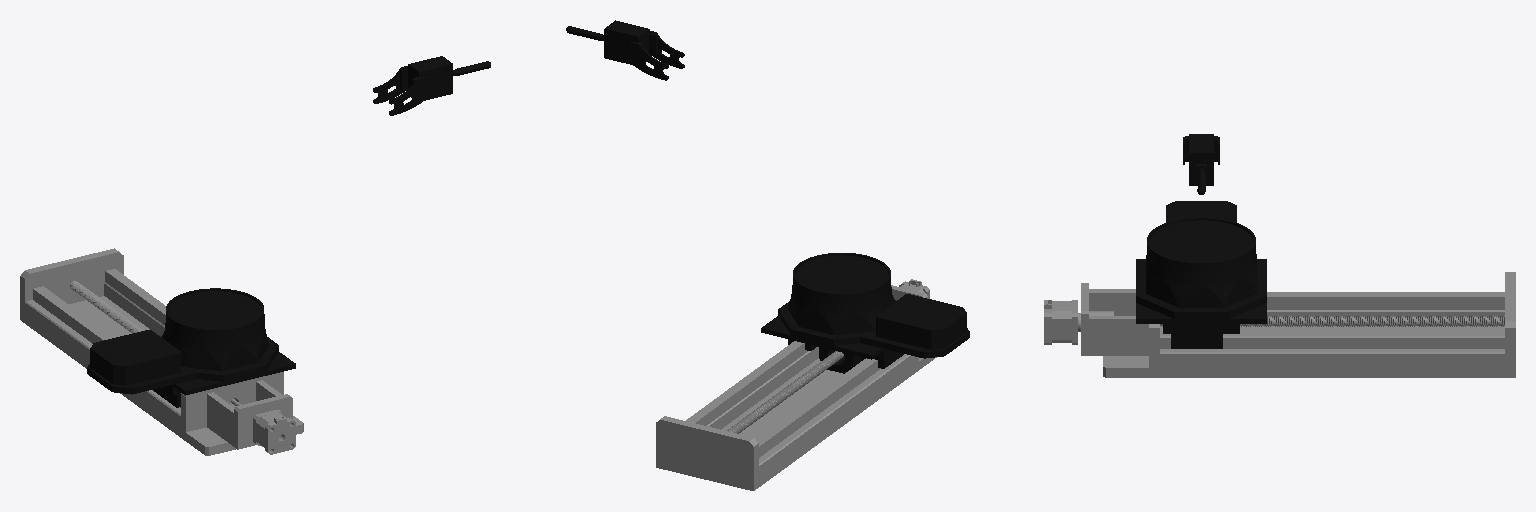
The robot description file, URDF, robot "rx200":
<?xml version="1.0"?>
<robot name="rx200">

  <material name="interbotix_black">
	<color rgba="0.1 0.1 0.1 1"/>
  </material>
  
  <material name="silver">
	<color rgba="0.6 0.6 0.6 1"/>
  </material>
  
  <link name="world" />  

  <joint name="world_joint" type="fixed">
    <origin rpy="0 0 0" xyz="0 0 0"/>
    <parent link="world"/>
    <child link="rx200/linear_actuator"/>
  </joint>  
  
  <link name="rx200/linear_actuator">
	<visual>
      <origin rpy="0 0 0" xyz="0 0 0"/>
      <geometry>
        <mesh filename="../Data/sim/meshes/LINEAR_ACTUATOR.stl" scale="0.001 0.001 0.001"/>
      </geometry>
      <material name="silver"/>
	</visual>
	<collision>
	  <origin rpy="0 0 0" xyz="0 0 0"/>
	  <geometry>
		<mesh filename="../Data/sim/meshes/LINEAR_ACTUATOR.stl" scale="0.001 0.001 0.001"/>
	  </geometry>
	</collision>
	<inertial>
      <origin xyz="0 0 0"/>
      <mass value="1"/>
      <inertia ixx="0.0033530000" iyy="0.0013570000" izz="0.0041110000" ixy="-0.0001246000" ixz="0.0000110600" iyz="0.0002103000" />
	</inertial>
  </link>
  
  <joint name="rail_base" type="prismatic">
    <axis xyz="0 1 0"/>
    <limit effort="8" lower="0" upper="0.325" velocity="0.05"/>
    <origin rpy="0 0 0" xyz="0 -0.125 0.1425"/>
    <parent link="rx200/linear_actuator"/>
    <child link="rx200/base_link"/>
    <dynamics friction="0.1"/>
  </joint>

  <link name="rx200/base_link">
    <visual>
      <origin rpy="0 0 0" xyz="0 0 0"/>
      <geometry>
        <mesh filename="../Data/sim/meshes/RX200_BASE.stl" scale="0.001 0.001 0.001"/>
      </geometry>
      <material name="interbotix_black"/>
    </visual>
    <collision>
      <origin rpy="0 0 0" xyz="0 0 0"/>
      <geometry>
        <mesh filename="../Data/sim/meshes/RX200_BASE.stl" scale="0.001 0.001 0.001"/>
      </geometry>
    </collision>
    <inertial>
      <origin rpy="0 0 0" xyz="-0.0354389000 -0.0033586100 0.0253408000"/>
      <mass value="0.766135" />
      <inertia ixx="0.0033530000" iyy="0.0013570000" izz="0.0041110000" ixy="-0.0001246000" ixz="0.0000110600" iyz="0.0002103000" />
    </inertial>
  </link>

  <joint name="waist" type="revolute">
    <axis xyz="0 0 1"/>
    <limit effort="8" lower="-1.57078632679" upper="1.57080632679" velocity="3.14159"/>
    <origin rpy="0 0 0" xyz="0.00625 0 0"/>
    <parent link="rx200/base_link"/>
    <child link="rx200/shoulder_link"/>
    <dynamics friction="0.1"/>
  </joint>

  <transmission name="trans_waist">
    <type>transmission_interface/SimpleTransmission</type>
    <joint name="waist">
      <hardwareInterface>hardware_interface/EffortJointInterface</hardwareInterface>
    </joint>
    <actuator name="waist_motor">
      <mechanicalReduction>1</mechanicalReduction>
    </actuator>
  </transmission>

  <link name="rx200/shoulder_link">
    <visual>
      <origin rpy="0 0 -1.57079632679" xyz="0 0 0.0015"/>
      <geometry>
        <mesh filename="../Data/sim/meshes/RX200_SHOULDER.stl" scale="0.001 0.001 0.001"/>
      </geometry>
      <material name="interbotix_black"/>
    </visual>
    <collision>
      <origin rpy="0 0 -1.57079632679" xyz="0 0 0.0015"/>
      <geometry>
        <mesh filename="../Data/sim/meshes/RX200_SHOULDER.stl" scale="0.001 0.001 0.001"/>
      </geometry>
    </collision>
    <inertial>
      <origin rpy="0 0 1.57079632679" xyz="-0.0000853644 0.0000173690 0.0132005000"/>
      <mass value="0.257774" />
      <inertia ixx="0.0002663000" iyy="0.0004428000" izz="0.0004711000" ixy="0.0000000009" ixz="0.0000000511" iyz="0.0000004416" />
    </inertial>
  </link>

  <joint name="shoulder" type="revolute">
    <axis xyz="0 1 0"/>
    <limit effort="18" lower="-1.88496" upper="1.97222" velocity="1"/>
    <origin rpy="0 0 0" xyz="0 0 0.03891"/>
    <parent link="rx200/shoulder_link"/>
    <child link="rx200/upper_arm_link"/>
    <dynamics friction="0.1"/>
  </joint>

  <transmission name="trans_shoulder">
    <type>transmission_interface/SimpleTransmission</type>
    <joint name="shoulder">
      <hardwareInterface>hardware_interface/EffortJointInterface</hardwareInterface>
    </joint>
    <actuator name="shoulder_motor">
      <mechanicalReduction>1</mechanicalReduction>
    </actuator>
  </transmission>

  <link name="rx200/upper_arm_link">
    <visual>
      <origin rpy="0 0 1.57079632679" xyz="0 0 0"/>
      <geometry>
        <mesh filename="../Data/sim/meshes/RX200_UA.stl" scale="0.001 0.001 0.001"/>
      </geometry>
      <material name="interbotix_black"/>
    </visual>
    <collision>
      <origin rpy="0 0 1.57079632679" xyz="0 0 0"/>
      <geometry>
        <mesh filename="../Data/sim/meshes/RX200_UA.stl" scale="0.001 0.001 0.001"/>
      </geometry>
    </collision>
    <inertial>
      <origin rpy="0 0 1.57079632679" xyz="0.0119513000 -0.0001169230 0.1394300000"/>
      <mass value="0.297782" />
      <inertia ixx="0.0017100000" iyy="0.0016310000" izz="0.0001478000" ixy="-0.0000009773" ixz="0.0000020936" iyz="0.0002132000" />
    </inertial>
  </link>

  <joint name="elbow" type="revolute">
    <axis xyz="0 1 0"/>
    <limit effort="13" lower="-1.88496" upper="1.62316" velocity="3.14159"/>
    <origin rpy="0 0 0" xyz="0.05 0 0.2"/>
    <parent link="rx200/upper_arm_link"/>
    <child link="rx200/forearm_link"/>
    <dynamics friction="0.1"/>
  </joint>

  <transmission name="trans_elbow">
    <type>transmission_interface/SimpleTransmission</type>
    <joint name="elbow">
      <hardwareInterface>hardware_interface/EffortJointInterface</hardwareInterface>
    </joint>
    <actuator name="elbow_motor">
      <mechanicalReduction>1</mechanicalReduction>
    </actuator>
  </transmission>

  <link name="rx200/forearm_link">
    <visual>
      <origin rpy="0 0 1.57079632679" xyz="0 0 0"/>
      <geometry>
        <mesh filename="../Data/sim/meshes/RX200_FOREARM.stl" scale="0.001 0.001 0.001"/>
      </geometry>
      <material name="interbotix_black"/>
    </visual>
    <collision>
      <origin rpy="0 0 1.57079632679" xyz="0 0 0"/>
      <geometry>
        <mesh filename="../Data/sim/meshes/RX200_FOREARM.stl" scale="0.001 0.001 0.001"/>
      </geometry>
    </collision>
    <inertial>
      <origin rpy="0 0 1.57079632679" xyz="0.1147450000 -0.0000938376 0.0000000000"/>
      <mass value="0.258863" />
      <inertia ixx="0.0010550000" iyy="0.0000642100" izz="0.0010760000" ixy="-0.0000018286" ixz="0.0000000000" iyz="0.0000000000" />
    </inertial>
  </link>

  <joint name="wrist_angle" type="revolute">
    <axis xyz="0 1 0"/>
    <limit effort="5" lower="-1.74533" upper="2.14675" velocity="3"/>
    <origin rpy="0 0 0" xyz="0.2 0 0"/>
    <parent link="rx200/forearm_link"/>
    <child link="rx200/wrist_link"/>
    <dynamics friction="0.1"/>
  </joint>

  <transmission name="trans_wrist_angle">
    <type>transmission_interface/SimpleTransmission</type>
    <joint name="wrist_angle">
      <hardwareInterface>hardware_interface/EffortJointInterface</hardwareInterface>
    </joint>
    <actuator name="wrist_angle_motor">
      <mechanicalReduction>1</mechanicalReduction>
    </actuator>
  </transmission>

  <link name="rx200/wrist_link">
    <visual>
      <origin rpy="0 0 1.57079632679" xyz="0 0 0"/>
      <geometry>
        <mesh filename="../Data/sim/meshes/RX200_PROBE_WRIST.stl" scale="0.001 0.001 0.001"/>
      </geometry>
      <material name="interbotix_black"/>
    </visual>
    <collision>
      <origin rpy="0 0 1.57079632679" xyz="0 0 0"/>
      <geometry>
        <mesh filename="../Data/sim/meshes/RX200_PROBE_WRIST.stl" scale="0.001 0.001 0.001"/>
      </geometry>
    </collision>
    <inertial>
      <origin rpy="0 0 1.57079632679" xyz="0.0423600000 -0.0000104110 0.0105770000"/>
      <mass value="0.084957" />
      <inertia ixx="0.0000308200" iyy="0.0000282200" izz="0.0000315200" ixy="0.0000000191" ixz="0.0000000023" iyz="0.0000025481" />
    </inertial>
  </link>

<joint name="probe_ref_joint" type="fixed">
    <origin rpy="0 0 0" xyz="0.155 0 0.016"/>
    <parent link="rx200/wrist_link"/>
    <child link="rx200/probe_tip_ref"/>
</joint>

<link name="rx200/probe_tip_ref">
    <visual>
      <origin rpy="0 0 0" xyz="0 0 0"/>
      <geometry>
        <sphere radius="0.005"/>
      </geometry>
      <material name="interbotix_black"/>
    </visual>
	
    <collision>
      <origin rpy="0 0 0" xyz="0 0 0"/>
      <geometry>
        <sphere radius="0.005"/>
      </geometry>
    </collision>
</link>

</robot>

--- Render facts (derived) ---
Views: 3 orthographic renders of the robot side by side, from view 1: azimuth 30°, elevation 25°; view 2: azimuth 150°, elevation 25°; view 3: azimuth 270°, elevation 25°.
Model rx200 with 8 links and 7 joints (4 revolute, 1 prismatic, 2 fixed), rooted at world, posed all joints at 0.
Links seen in each view (by area): view 1: rx200/linear_actuator, rx200/base_link, rx200/wrist_link; view 2: rx200/linear_actuator, rx200/base_link, rx200/wrist_link; view 3: rx200/linear_actuator, rx200/base_link, rx200/wrist_link.
Link boxes in pixels (bbox=[...]): rx200/linear_actuator: bbox=[20, 248, 303, 455]; rx200/base_link: bbox=[87, 288, 295, 407]; rx200/wrist_link: bbox=[373, 56, 487, 115]; rx200/linear_actuator: bbox=[656, 279, 936, 490]; rx200/base_link: bbox=[761, 253, 969, 373]; rx200/wrist_link: bbox=[568, 20, 684, 80]; rx200/linear_actuator: bbox=[1044, 272, 1515, 377]; rx200/base_link: bbox=[1136, 201, 1266, 348]; rx200/wrist_link: bbox=[1183, 134, 1219, 189].
Size in the robot's own frame: 0.5822 by 0.5471 by 0.4186 metres.
3 mesh visuals loaded from 6 distinct referenced files (3 binary STL); not drawn: 3 (reference not matched to a file when rendering).
